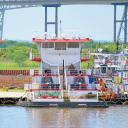tugboat: (16, 31, 111, 111)
